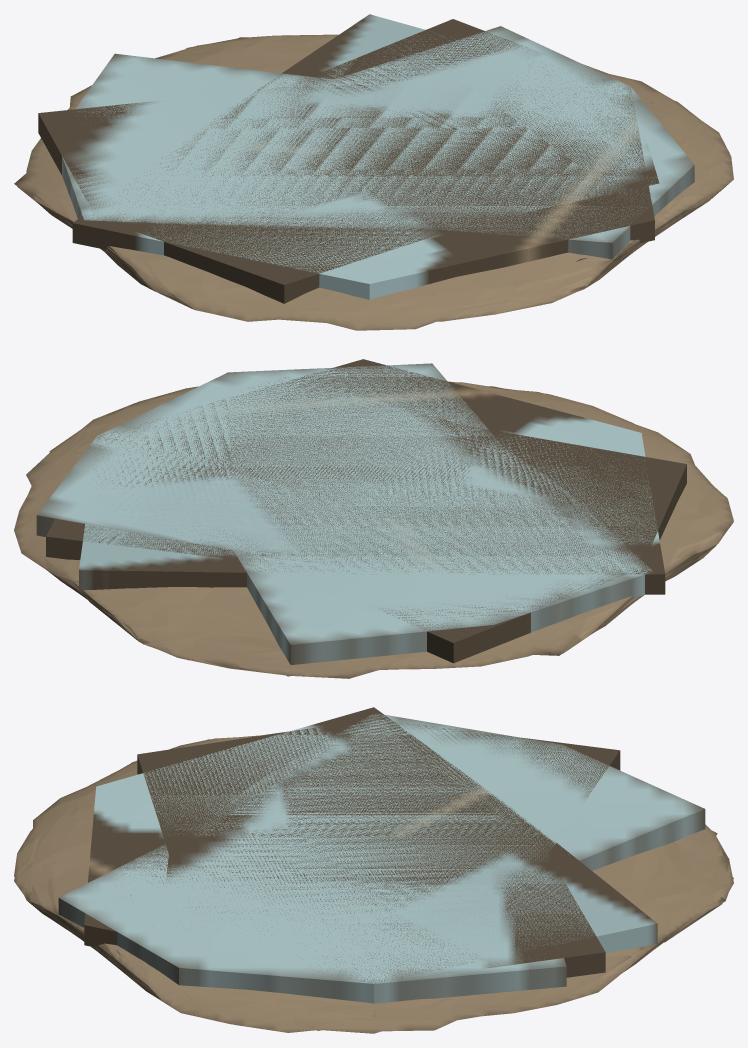
File: SF_INCL_ICE_SHEEN_PLATE_V1.glb
3 views of the same model, one above another, from view 1: azimuth 30°, elevation 25°; view 2: azimuth 150°, elevation 25°; view 3: azimuth 270°, elevation 25° (orthographic).
Parts seen in each view (by area): view 1: LOD0_SF_INCL_ICE_SHEEN_PLATE_V1, LOD1_SF_INCL_ICE_SHEEN_PLATE_V1, LOD2_SF_INCL_ICE_SHEEN_PLATE_V1; view 2: LOD0_SF_INCL_ICE_SHEEN_PLATE_V1, LOD1_SF_INCL_ICE_SHEEN_PLATE_V1, LOD2_SF_INCL_ICE_SHEEN_PLATE_V1; view 3: LOD0_SF_INCL_ICE_SHEEN_PLATE_V1, LOD1_SF_INCL_ICE_SHEEN_PLATE_V1, LOD2_SF_INCL_ICE_SHEEN_PLATE_V1.
Part boxes in pixels (<box>): LOD0_SF_INCL_ICE_SHEEN_PLATE_V1: <box>17,26,733,330</box>; LOD1_SF_INCL_ICE_SHEEN_PLATE_V1: <box>14,19,710,319</box>; LOD2_SF_INCL_ICE_SHEEN_PLATE_V1: <box>72,14,654,299</box>; LOD0_SF_INCL_ICE_SHEEN_PLATE_V1: <box>14,363,733,678</box>; LOD1_SF_INCL_ICE_SHEEN_PLATE_V1: <box>31,377,724,678</box>; LOD2_SF_INCL_ICE_SHEEN_PLATE_V1: <box>74,359,665,648</box>; LOD0_SF_INCL_ICE_SHEEN_PLATE_V1: <box>14,714,733,1033</box>; LOD1_SF_INCL_ICE_SHEEN_PLATE_V1: <box>25,719,728,1030</box>; LOD2_SF_INCL_ICE_SHEEN_PLATE_V1: <box>71,707,680,1016</box>.
Size of the model in its own units: 1.18 by 0.049 by 1.2.
1 material, 1 textured.
